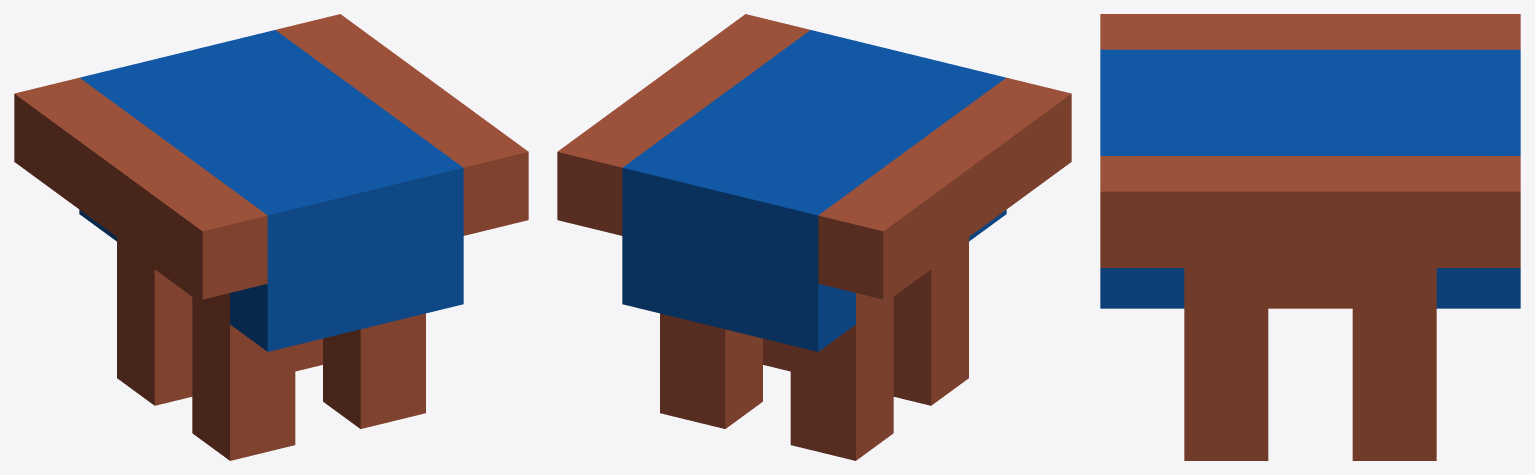
File: small_bench_a_blue.obj
The picture shows the model from 3 angles, left to right: view 1: azimuth 30°, elevation 25°; view 2: azimuth 150°, elevation 25°; view 3: azimuth 270°, elevation 25°; orthographic projection. The views are drawn at different scales.
Size of the model in its own units: 0.5 by 0.4 by 0.5.
1 material, 1 textured.
